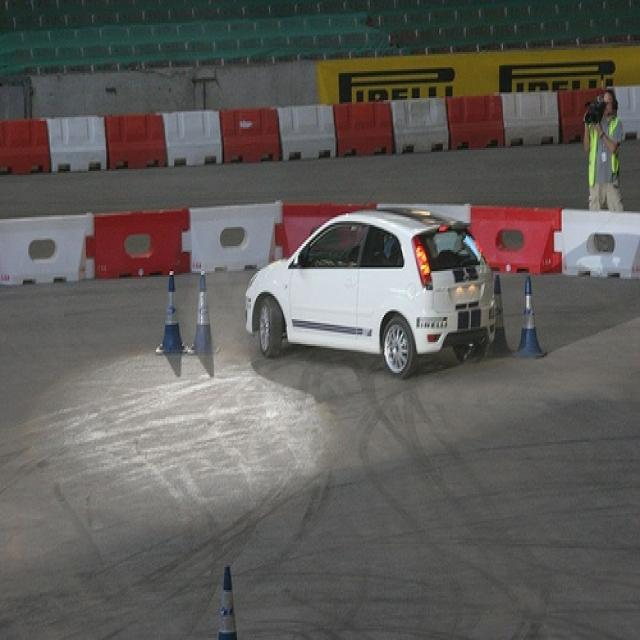light_vehicle: (238, 203, 493, 374)
